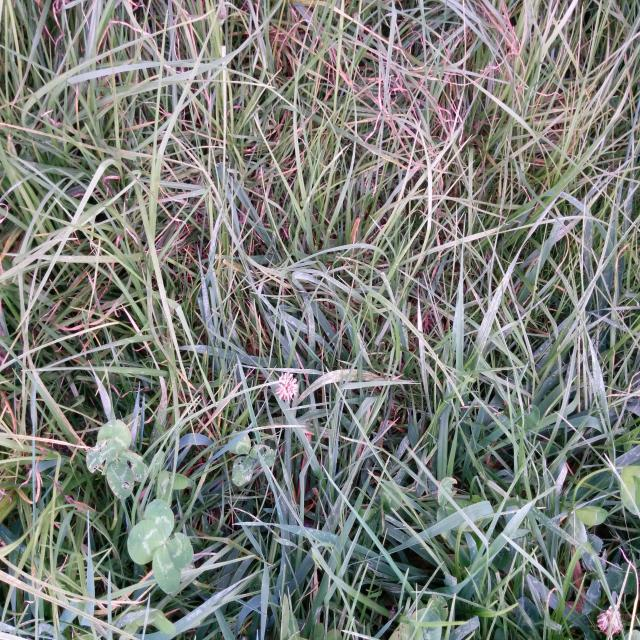Four Leaf Clover: (128, 502, 193, 594), (86, 419, 148, 498)
